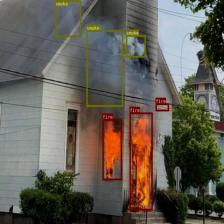fire: (130, 112, 152, 210), (102, 119, 122, 180), (155, 103, 169, 111)
smoke: (86, 30, 123, 106), (55, 0, 81, 37), (126, 35, 145, 57)
